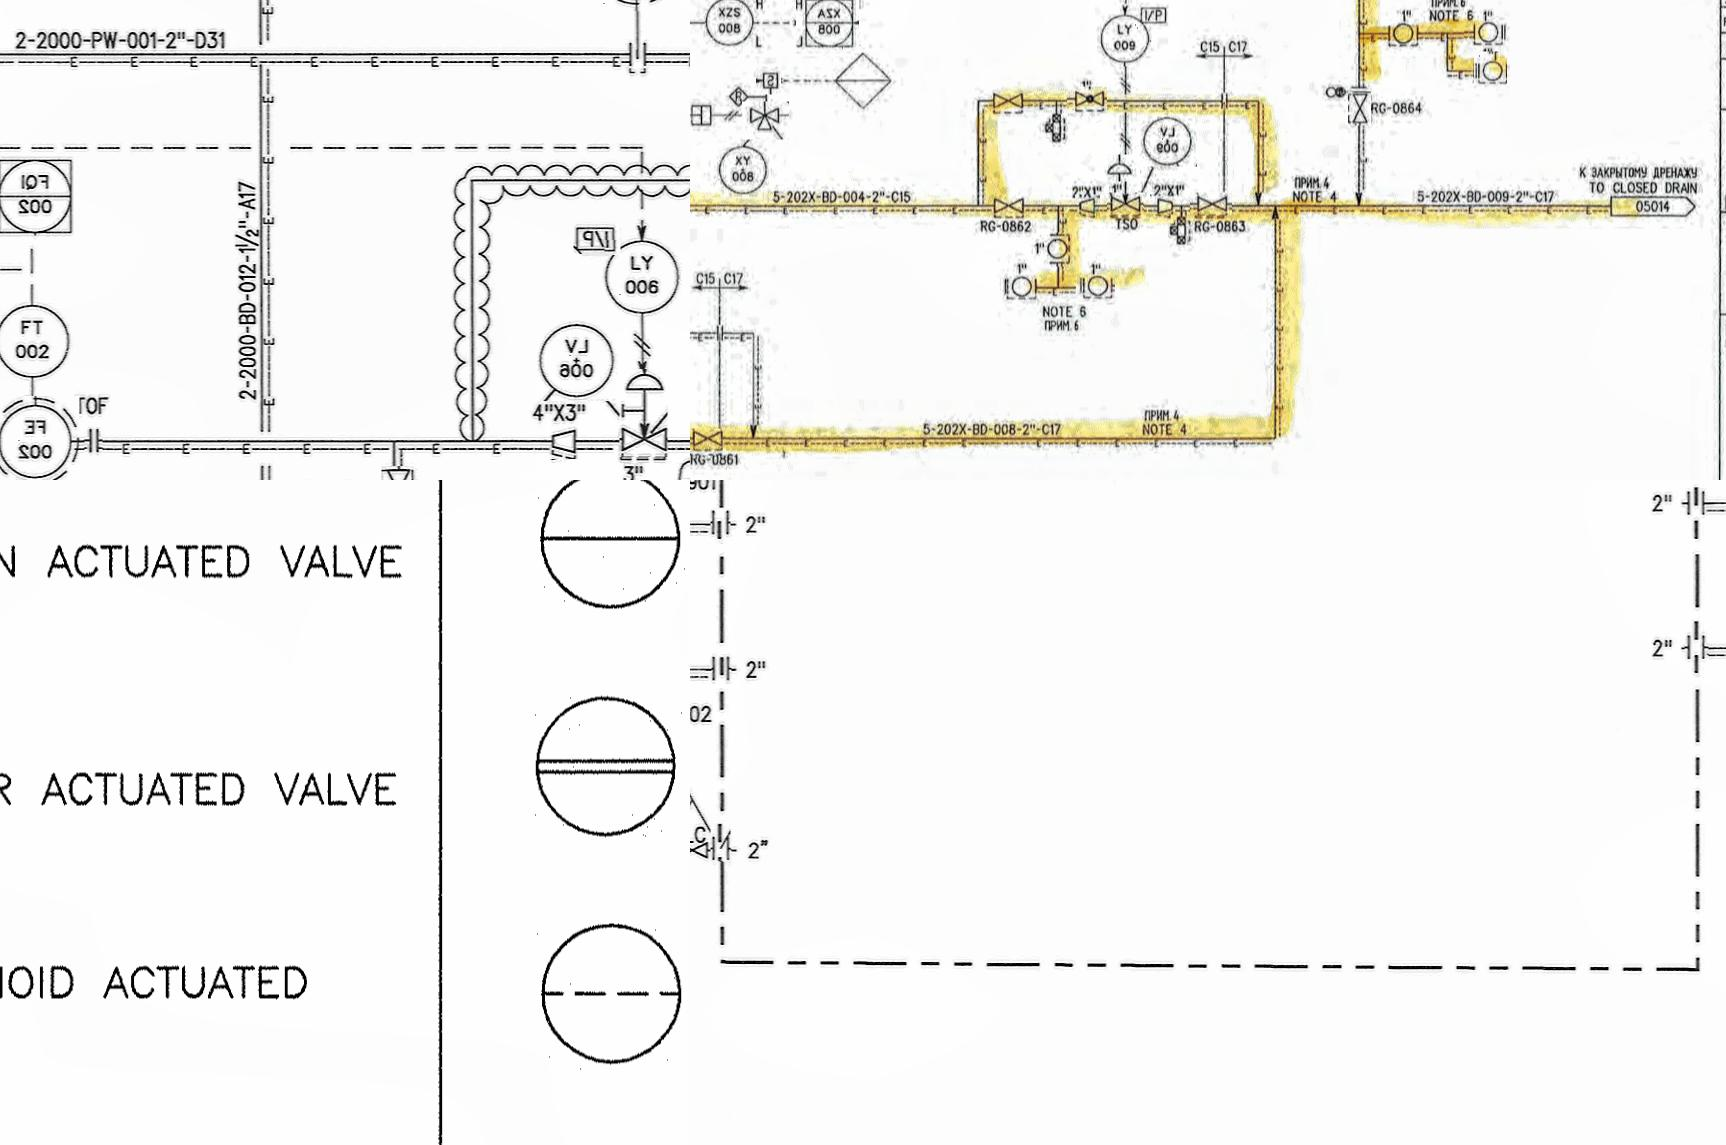3 WAY GENERAL VALVE: (742, 101, 790, 139)
CONCENTRIC REDUCER: (547, 420, 580, 459), (1076, 194, 1100, 219), (1151, 194, 1179, 213)
DCS ACCESSIBLE: (0, 155, 75, 244), (797, 0, 861, 52)
DIAPHRAGM ACTUATED VALVE: (620, 371, 667, 459)
END CAP: (1105, 155, 1141, 181)
END FLANGED: (84, 428, 102, 459)
FIELD INSTRUMENT: (538, 318, 617, 403), (0, 396, 79, 480), (0, 296, 74, 383), (604, 240, 682, 314), (1090, 5, 1154, 66), (1134, 118, 1198, 167), (715, 143, 772, 196), (705, 0, 754, 52), (1464, 17, 1510, 51), (1077, 275, 1117, 305), (1474, 51, 1508, 86), (1045, 233, 1076, 267), (1387, 15, 1417, 51), (1005, 272, 1037, 303)
GATE VALVE: (990, 86, 1030, 114), (690, 428, 728, 455), (1189, 193, 1232, 217), (988, 194, 1028, 219), (1108, 193, 1145, 216), (1349, 92, 1372, 125), (690, 841, 712, 861), (381, 466, 411, 480)
GLOBE VALVE: (1067, 87, 1106, 115)
HARDWIRED INTERLOCK FIELD: (724, 83, 752, 111)
HARDWIRED INTERLOCK PRIMARY.: (834, 51, 899, 115)
INSIDE PANEL INSTRUMENT: (529, 919, 685, 1073)
IP CONVERTER: (574, 224, 621, 256)
LOCALPANEL INSTRUMENT: (526, 686, 690, 846)
ORIFICE PLATE: (1684, 486, 1708, 539), (1685, 620, 1708, 676), (712, 824, 732, 863), (710, 510, 729, 543), (712, 656, 731, 684)
PANEL INSTRUMENT: (537, 480, 687, 613)
SPEED FLOW METER: (756, 63, 781, 95)
